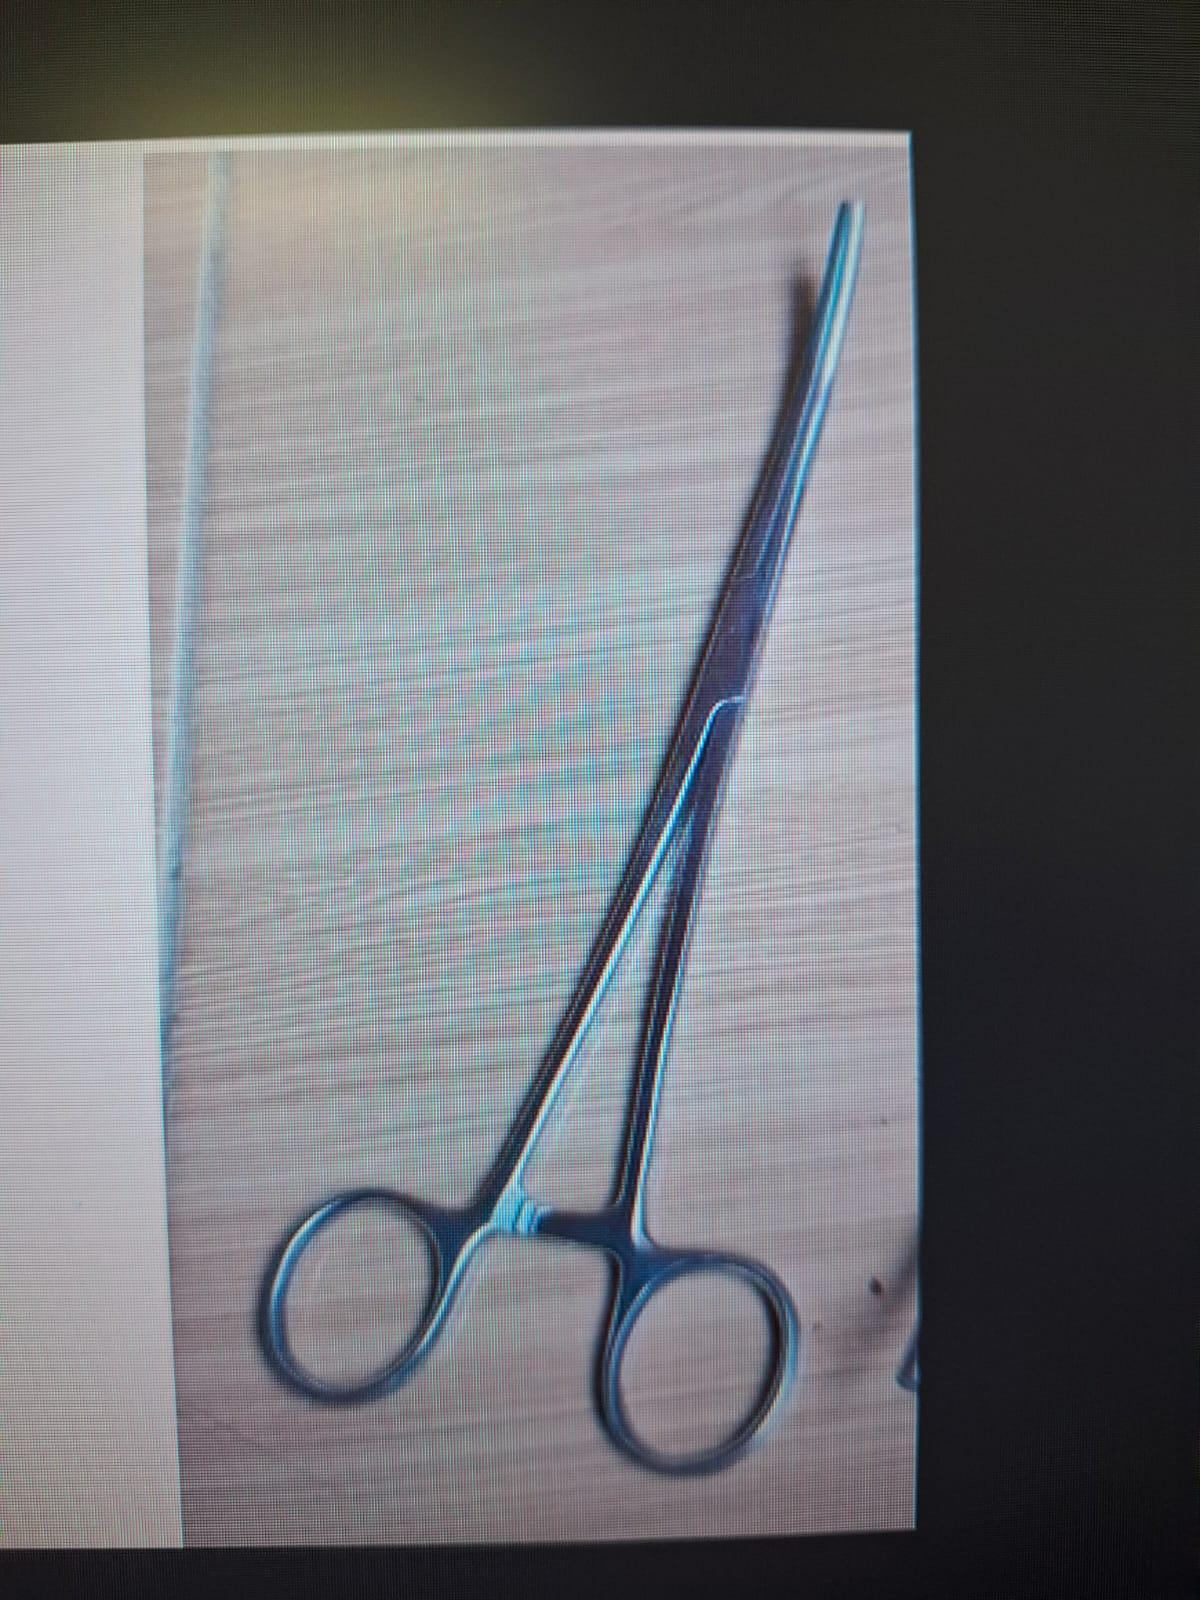Doyel Instestinal Forceps: (237, 183, 887, 1490)
